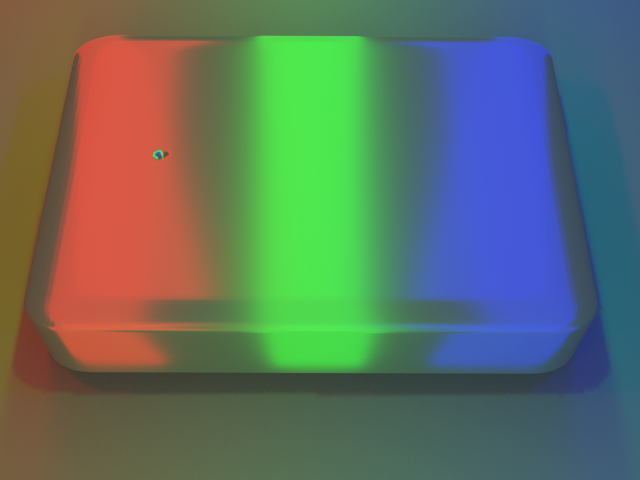dent: (124, 129, 164, 173)
